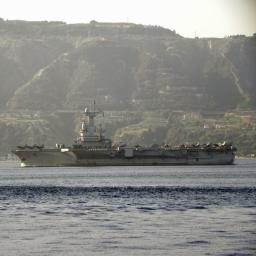Portanaves: (11, 92, 240, 169)
